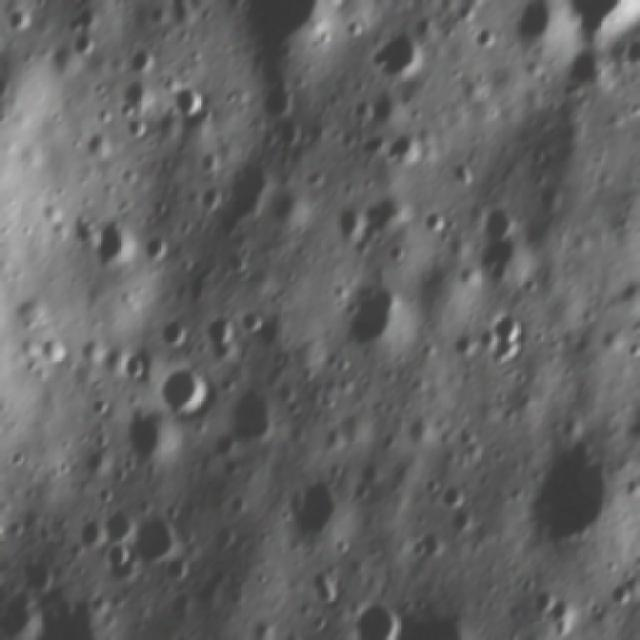crater: (540, 449, 622, 538), (344, 272, 404, 353), (231, 387, 280, 448), (290, 476, 338, 538), (506, 0, 559, 55), (226, 168, 280, 221), (372, 31, 433, 75), (344, 600, 414, 637), (88, 217, 140, 266), (160, 366, 208, 419), (136, 509, 182, 562), (131, 416, 183, 462), (563, 50, 608, 93), (497, 309, 529, 362), (477, 202, 521, 238), (201, 320, 237, 358), (72, 514, 106, 552), (334, 203, 372, 237), (22, 558, 61, 590), (389, 131, 423, 166), (259, 82, 299, 111), (104, 542, 136, 578), (144, 232, 176, 266), (85, 333, 114, 370), (173, 85, 204, 118), (473, 19, 504, 52), (67, 6, 107, 31), (5, 439, 32, 475), (314, 562, 338, 602), (84, 126, 113, 159), (42, 332, 67, 370), (121, 354, 148, 388), (422, 212, 456, 238), (210, 521, 236, 554), (122, 79, 147, 113), (105, 508, 129, 543), (118, 115, 151, 140), (608, 576, 632, 609), (226, 251, 256, 277), (272, 121, 300, 148), (238, 310, 264, 338), (449, 160, 477, 185), (406, 538, 437, 560), (198, 149, 222, 177), (165, 320, 186, 351), (447, 510, 475, 532), (92, 483, 117, 506), (533, 587, 555, 613), (6, 9, 34, 29), (451, 332, 474, 356), (440, 484, 466, 505), (88, 396, 110, 418), (199, 189, 221, 211), (72, 34, 95, 54), (478, 325, 498, 346), (312, 611, 332, 632), (624, 340, 640, 363), (423, 477, 445, 492), (227, 458, 239, 479)
